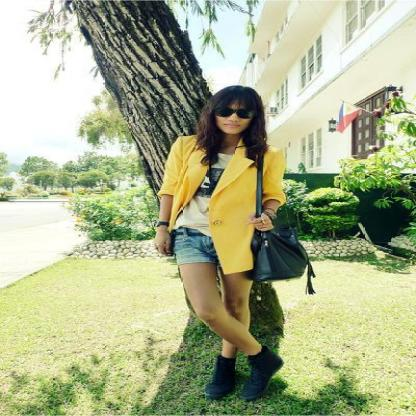bag: (241, 169, 332, 294)
jacket: (157, 125, 295, 274)
shirt: (172, 158, 224, 236)
shoe: (208, 346, 284, 403)
shorts: (155, 226, 219, 266)
sunglass: (212, 97, 239, 117)
